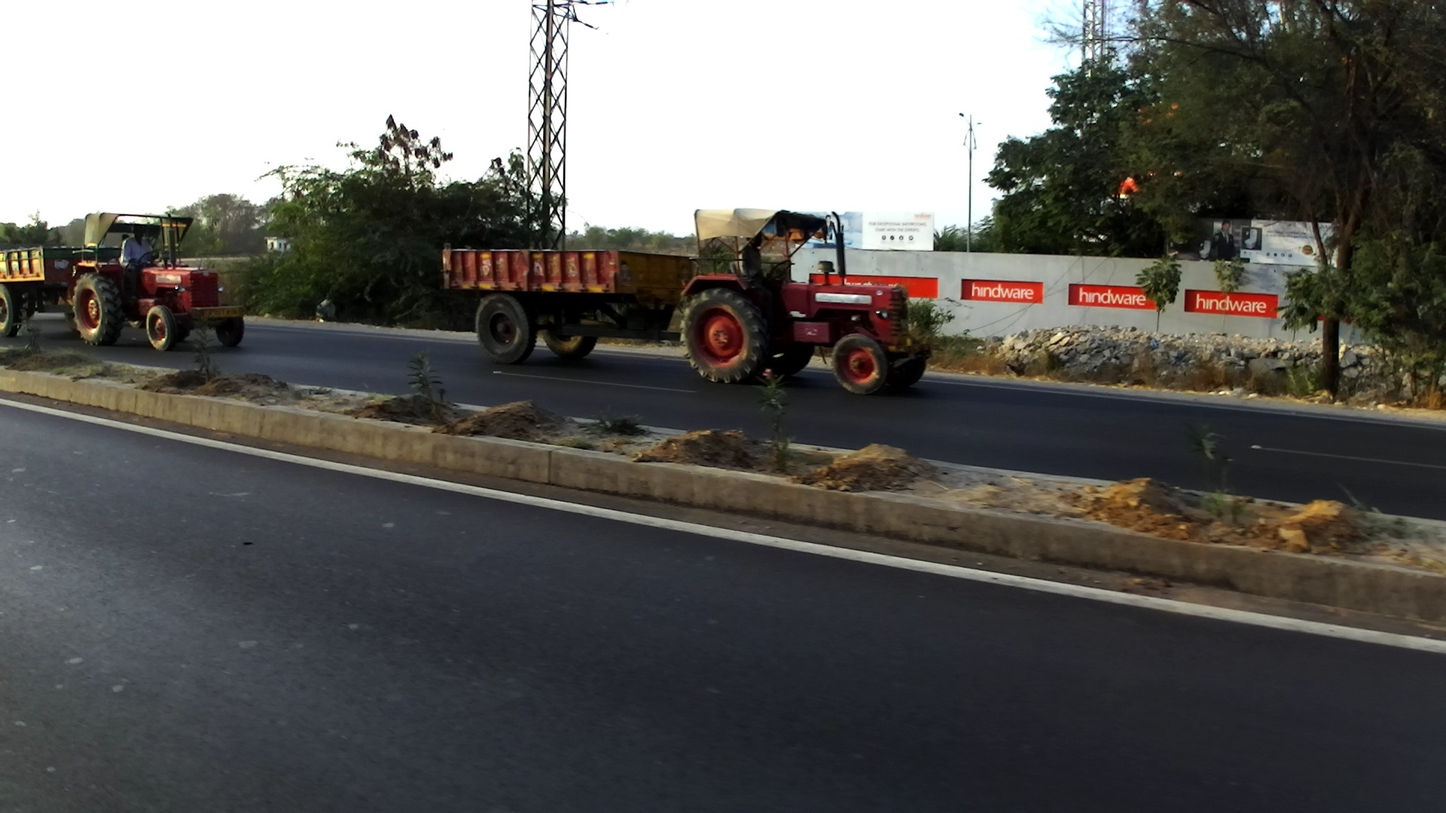vehicle fallback: (438, 196, 931, 392), (1, 209, 246, 351)
